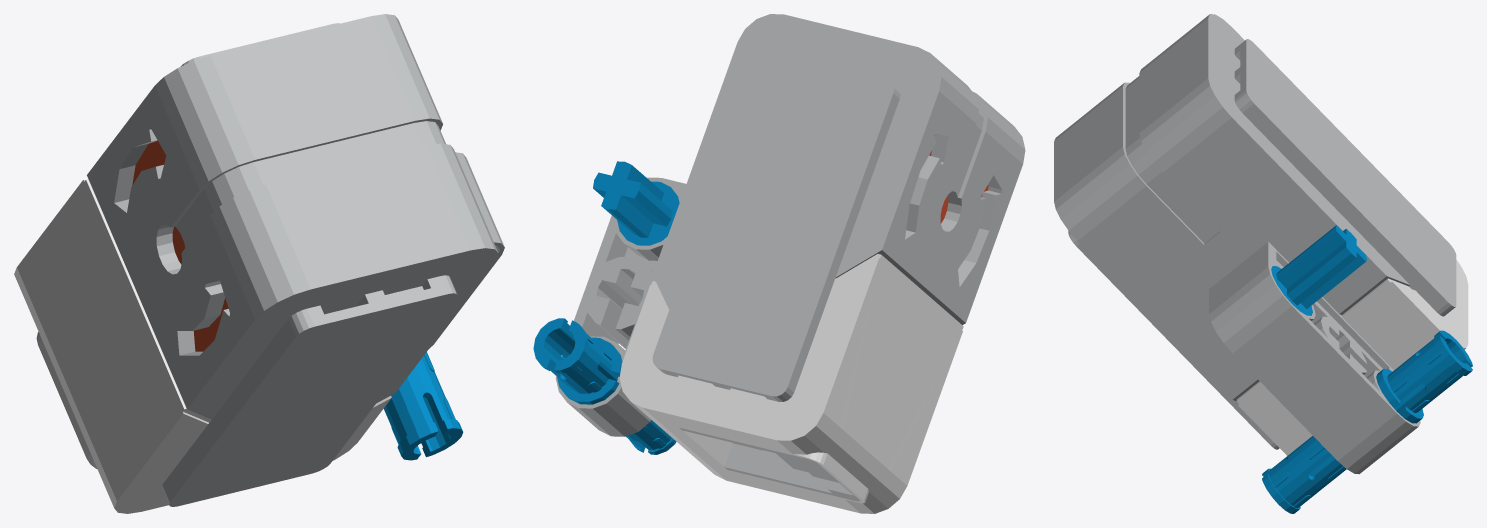
Rendered from hackev_gyro.dae.
3 renders of one model, left to right at view 1: azimuth 30°, elevation 25°; view 2: azimuth 150°, elevation 25°; view 3: azimuth 270°, elevation 25°, orthographic. The views are drawn at different scales.
Parts seen in each view (by area): view 1: Piece167, Piece159; view 2: Piece167, Piece159, Piece161; view 3: Piece167, Piece159, Piece161.
Boxes of the visible parts, left/top/right/bottom form: Piece167: left=14, top=14, right=504, bottom=513; Piece159: left=383, top=352, right=463, bottom=460; Piece167: left=555, top=14, right=1025, bottom=513; Piece159: left=533, top=318, right=676, bottom=454; Piece161: left=593, top=161, right=679, bottom=245; Piece167: left=1054, top=14, right=1468, bottom=474; Piece159: left=1262, top=330, right=1472, bottom=513; Piece161: left=1271, top=225, right=1366, bottom=315.
Bounding box in the file's own units: 0.0312 × 0.0423 × 0.0437.
